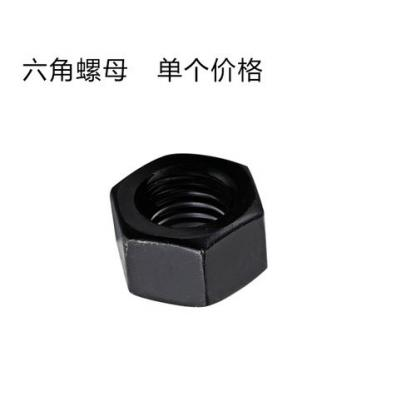FOD: (106, 149, 269, 309)
